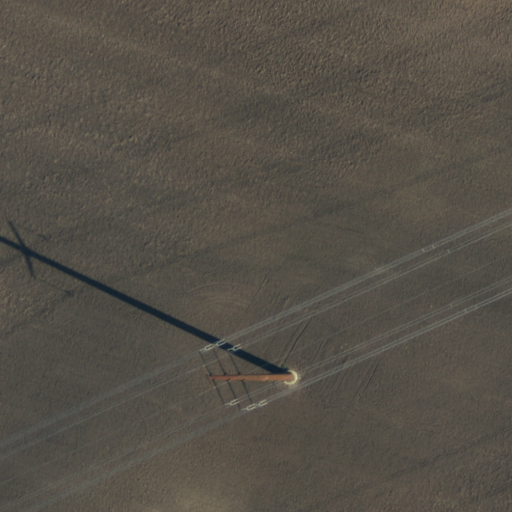TT: (197, 334, 300, 416)
